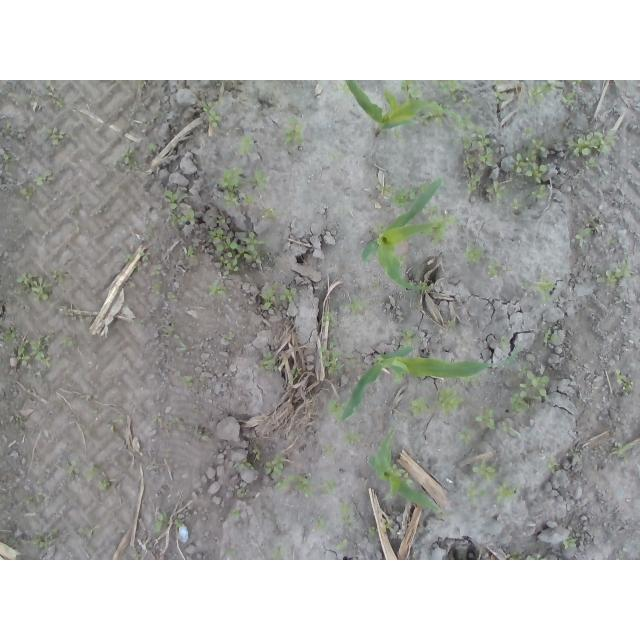Maize: (340, 347, 492, 421), (363, 173, 445, 293), (342, 80, 442, 141), (365, 435, 432, 510)
Weeds: (461, 126, 512, 202), (208, 216, 269, 279), (568, 130, 616, 167), (511, 367, 549, 413), (513, 138, 548, 184), (425, 202, 457, 246), (17, 270, 56, 304), (13, 336, 51, 369), (597, 255, 633, 287), (216, 167, 244, 208), (427, 386, 465, 415), (264, 453, 289, 496), (432, 80, 473, 105), (261, 286, 302, 310), (317, 340, 343, 377), (112, 144, 145, 172), (522, 279, 555, 306), (528, 83, 561, 106), (576, 215, 603, 242), (281, 115, 304, 146), (203, 96, 224, 129), (391, 463, 417, 489), (493, 480, 520, 505), (31, 528, 58, 553), (288, 472, 315, 496), (470, 459, 499, 481), (445, 109, 478, 128), (392, 185, 417, 209), (472, 405, 497, 429), (338, 295, 369, 314), (399, 328, 421, 353), (616, 368, 635, 396), (399, 80, 425, 100), (169, 209, 195, 228), (335, 501, 353, 528), (163, 190, 186, 211), (467, 482, 486, 507), (40, 127, 65, 146), (249, 168, 268, 193), (207, 281, 233, 299), (415, 112, 442, 129), (153, 512, 171, 537), (0, 148, 16, 176), (456, 430, 482, 447), (327, 399, 346, 421), (611, 441, 634, 459), (409, 398, 428, 419), (342, 428, 361, 447), (257, 351, 276, 370), (0, 326, 18, 346), (543, 327, 562, 345), (241, 133, 256, 155), (494, 80, 507, 105), (463, 245, 481, 263), (319, 479, 337, 497), (527, 184, 546, 201), (64, 458, 80, 478), (159, 319, 176, 337), (271, 544, 288, 561), (82, 463, 98, 481), (322, 311, 338, 329), (16, 184, 33, 200), (392, 128, 409, 144), (176, 334, 191, 352), (562, 90, 578, 106), (48, 265, 64, 281), (287, 367, 303, 383), (60, 336, 76, 352), (375, 183, 392, 198), (543, 456, 558, 473), (5, 528, 18, 547), (336, 82, 353, 96), (521, 126, 540, 138), (311, 516, 330, 528), (232, 462, 256, 471), (561, 535, 575, 550), (51, 95, 65, 110), (344, 353, 359, 367), (34, 175, 45, 194), (261, 208, 276, 221), (183, 244, 198, 257), (97, 479, 112, 492), (447, 320, 458, 337), (487, 260, 498, 277), (251, 444, 262, 461), (506, 351, 519, 365), (164, 415, 177, 429), (244, 194, 257, 207), (227, 544, 241, 556), (150, 264, 162, 278), (148, 143, 161, 155), (167, 292, 179, 305), (499, 336, 509, 351), (505, 552, 523, 560), (396, 254, 408, 266), (151, 284, 162, 297), (502, 422, 514, 433), (368, 526, 379, 538), (112, 413, 125, 423), (322, 447, 335, 457), (21, 496, 35, 505), (183, 375, 194, 386), (13, 414, 23, 426), (511, 198, 521, 210), (527, 554, 545, 560), (335, 543, 345, 553), (237, 487, 247, 497), (125, 252, 135, 262), (137, 80, 148, 89), (140, 251, 149, 262), (231, 511, 242, 520), (567, 80, 586, 85), (568, 447, 577, 457), (152, 416, 162, 425), (174, 519, 183, 529), (134, 261, 142, 272), (616, 552, 625, 561), (72, 208, 81, 217), (134, 554, 147, 560), (96, 209, 104, 216)
